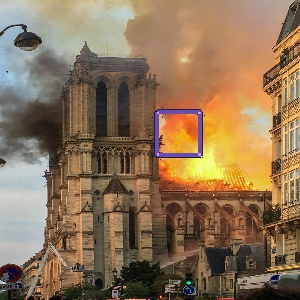square: (154, 109, 204, 158)
